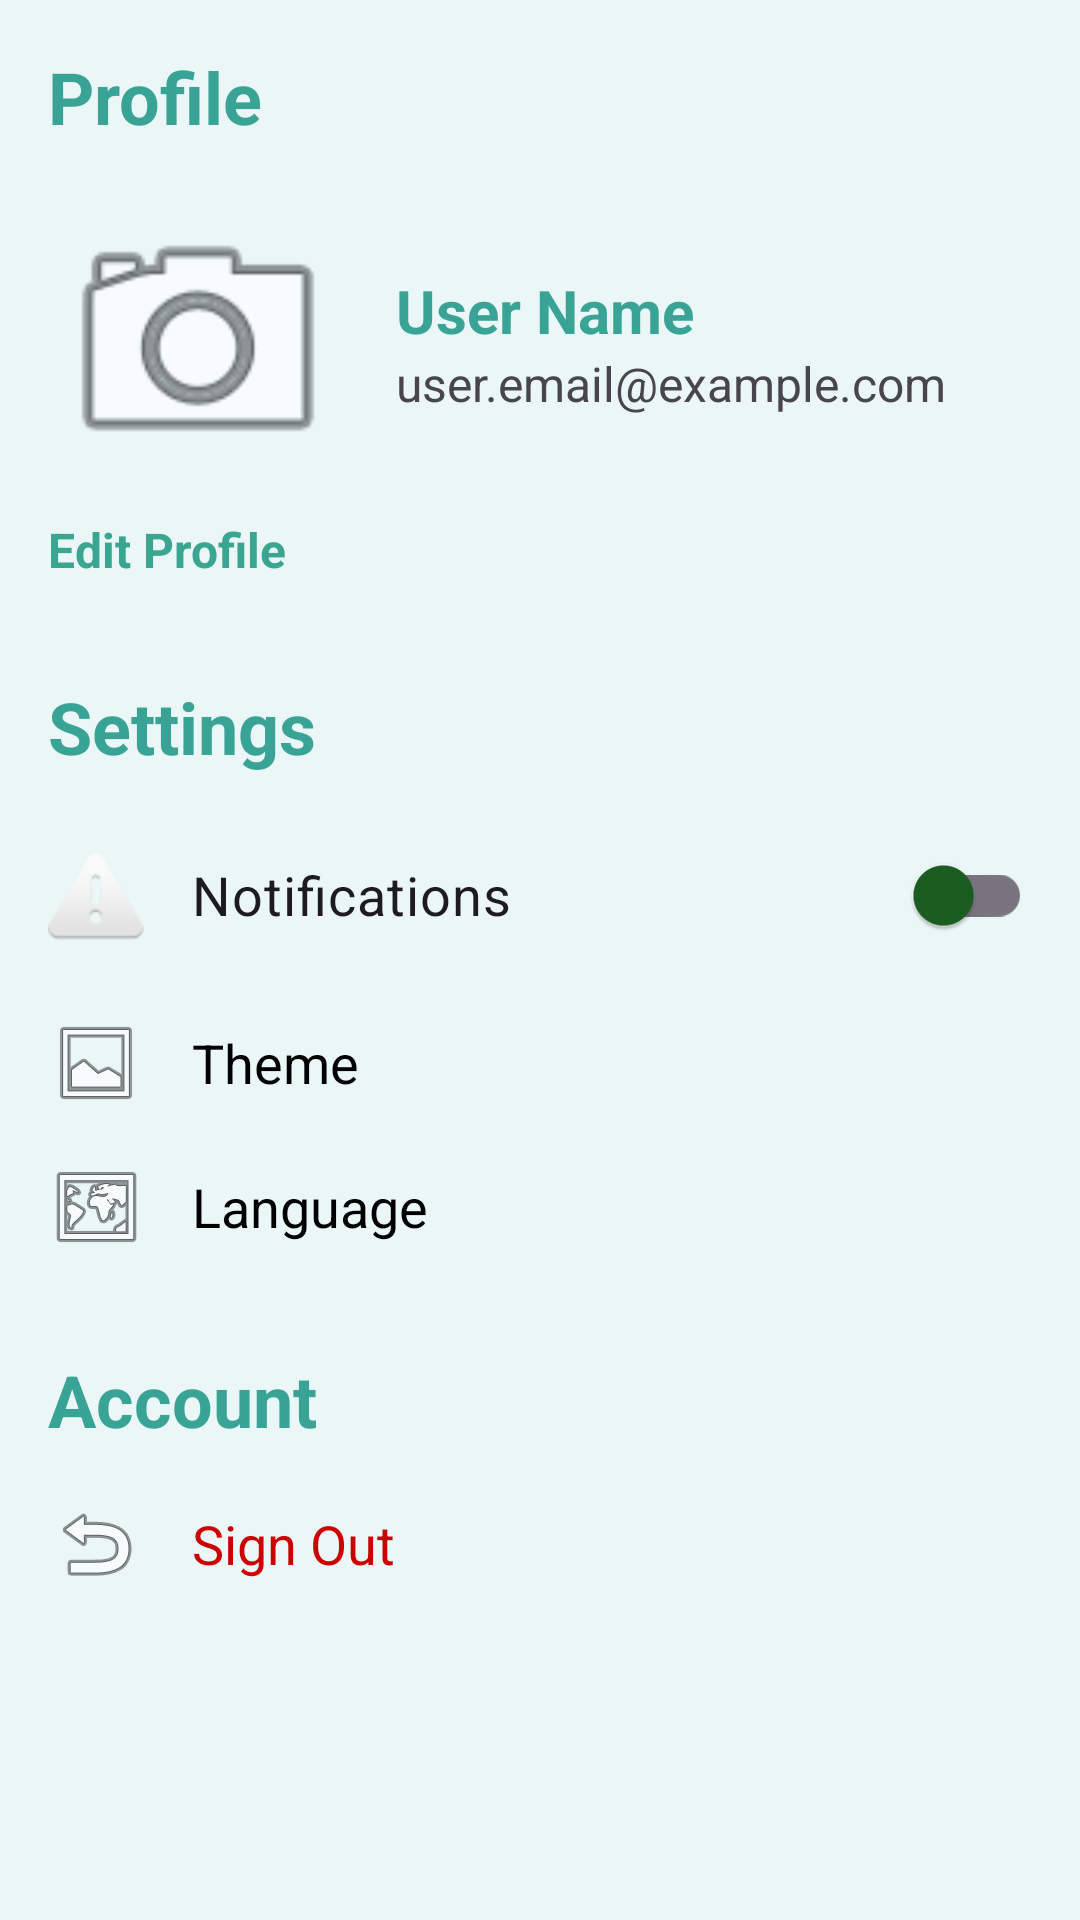

Icons on this 1080*1920 Android screen, each with its box as (left=x1, top=y1, right=x2, bottom=y2):
camera: (left=81, top=245, right=315, bottom=432)
